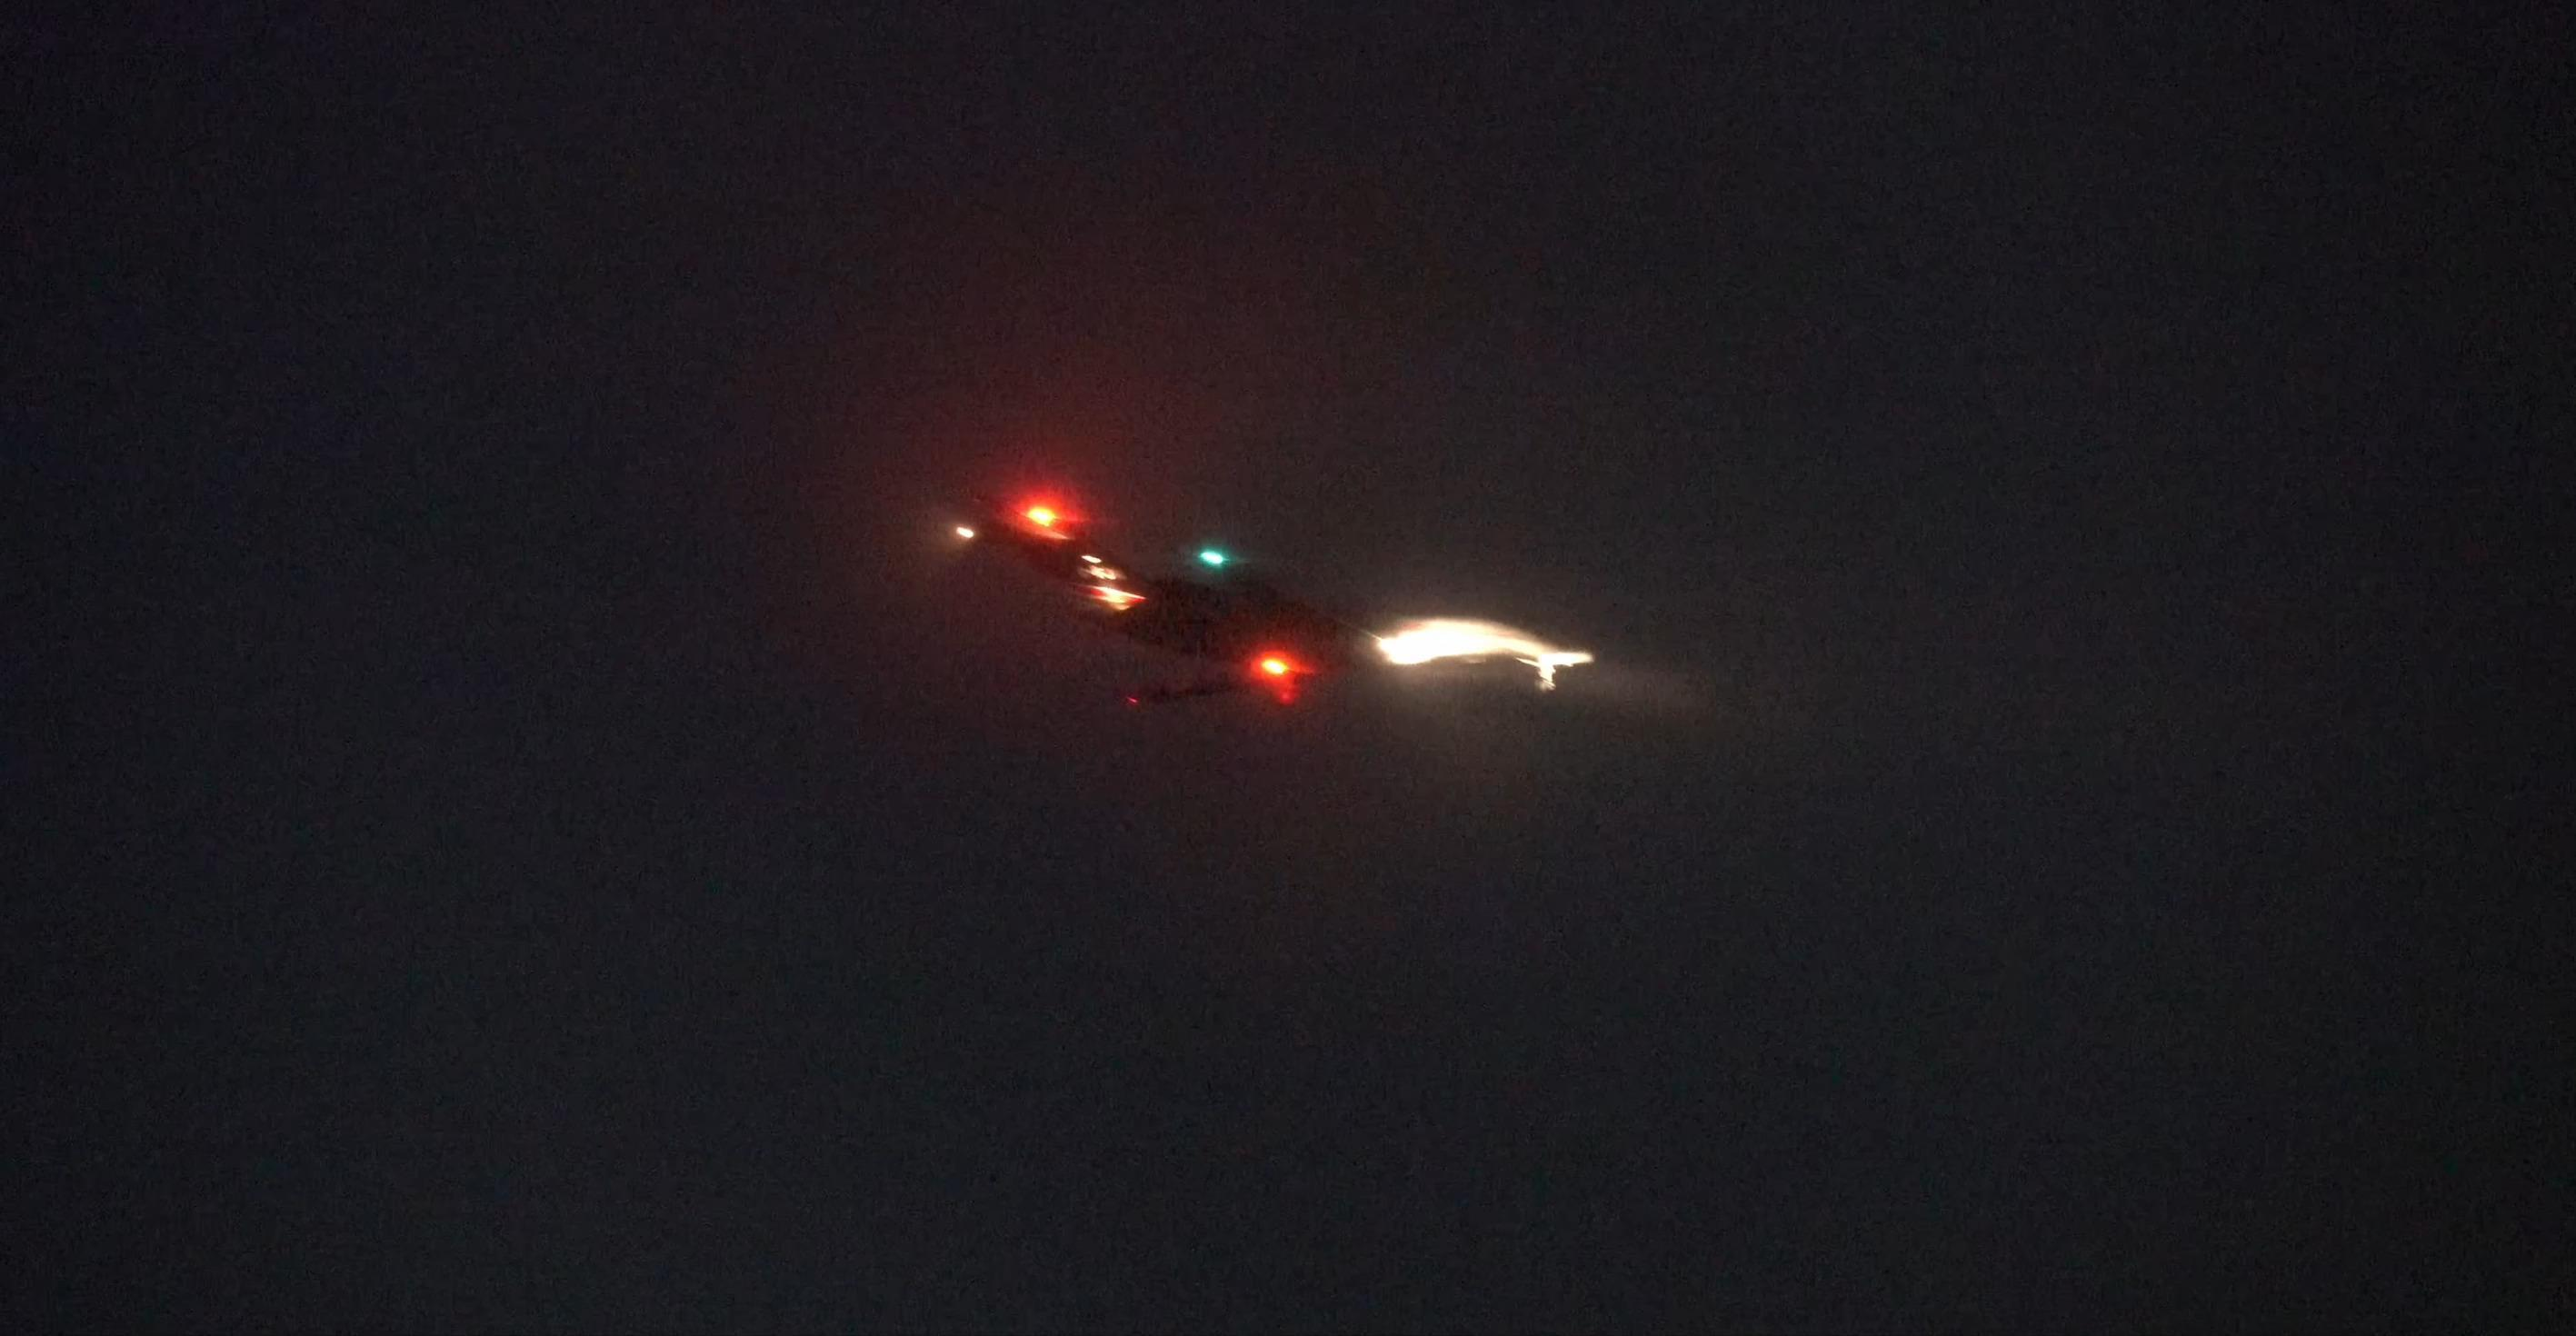Plane: (957, 516, 1559, 733)
